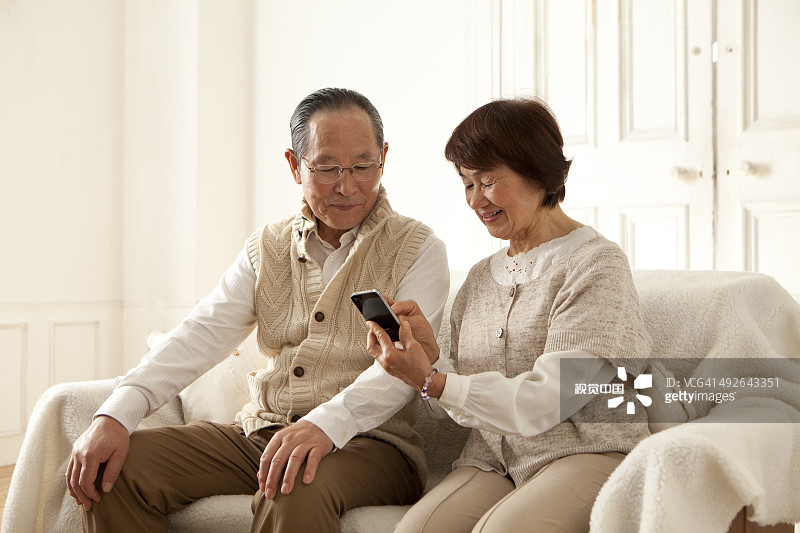reading: (342, 269, 449, 402)
